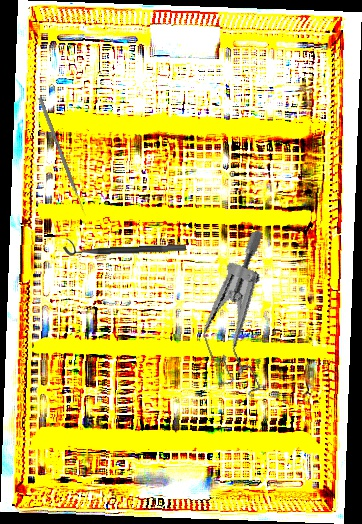Fixation Ring: (62, 233, 187, 257)
Pusher: (37, 97, 88, 217)
Speculum: (173, 228, 313, 408)
